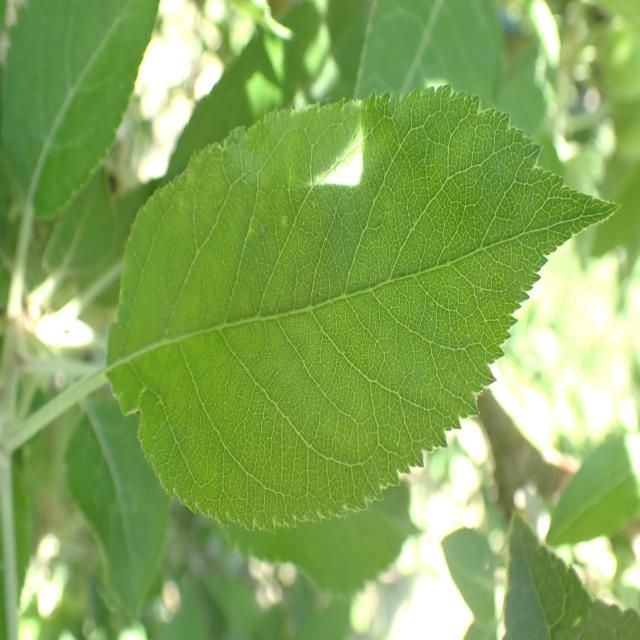healthy: (108, 84, 622, 532), (0, 0, 160, 220), (64, 392, 169, 624), (218, 482, 420, 596), (499, 508, 640, 640), (543, 429, 640, 548)
